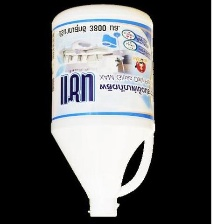cleaning_solution: (44, 2, 156, 219)
